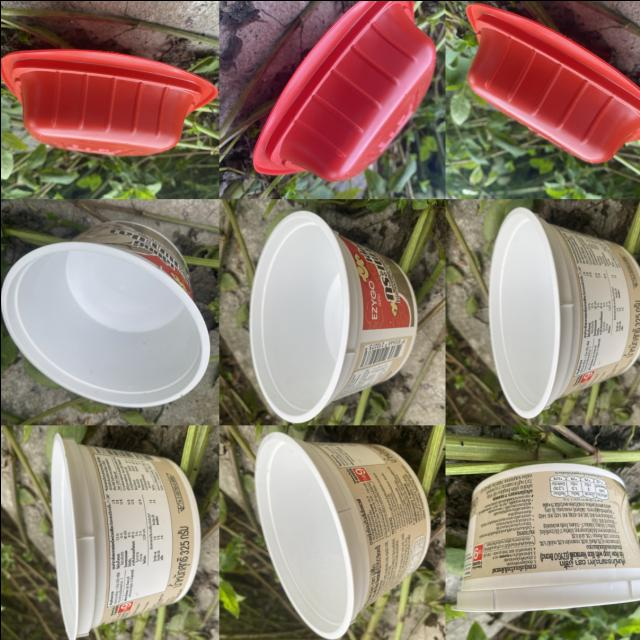plastik: (0, 222, 209, 407), (255, 432, 429, 639), (249, 210, 416, 421), (252, 0, 435, 180), (488, 208, 640, 417), (50, 433, 200, 640), (453, 462, 640, 611), (465, 2, 640, 161), (0, 49, 217, 155)
